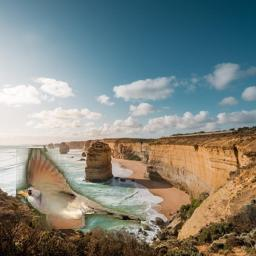Cuckoo: (16, 149, 146, 230)
